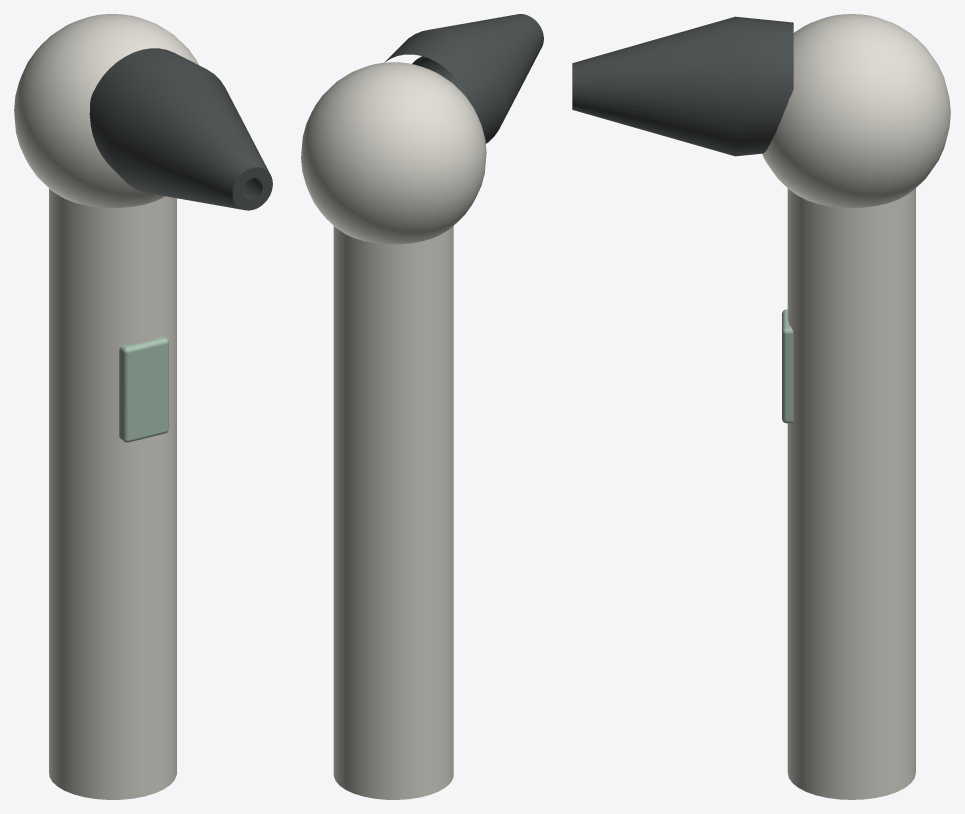
The model's file is hearing-aid-and-audiology-clinic-video-otoscope-3c2b59cc__31734.glb.
3 renders of one model, left to right at view 1: azimuth 30°, elevation 25°; view 2: azimuth 150°, elevation 25°; view 3: azimuth 270°, elevation 25°, orthographic. The views are drawn at different scales.
Visible parts, largest first — view 1: video-otoscope; view 2: video-otoscope; view 3: video-otoscope.
Boxes of the visible parts, left/top/right/bottom form: video-otoscope: left=14, top=14, right=272, bottom=799; video-otoscope: left=301, top=14, right=543, bottom=799; video-otoscope: left=572, top=14, right=950, bottom=799.
Size of the model in its own units: 0.034 by 0.142 by 0.065.
